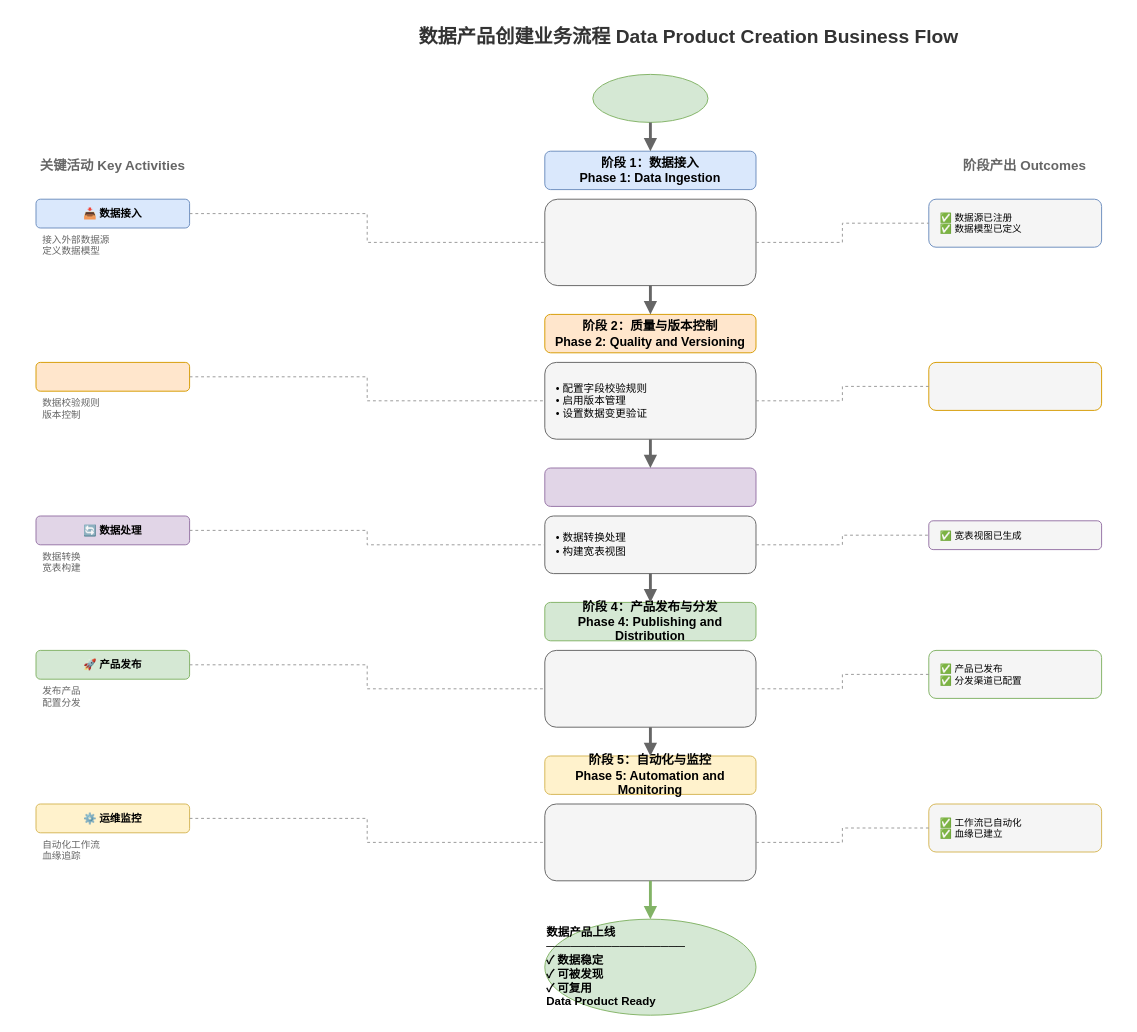
Some shapes in this 1137 by 1032 pixel diagram are drawn without their labels. The shapes that lost their labels are listed below. From the top down, each one's centre as x and y in pixels, then its label:
point 650,97: 开始 Start
point 650,242: • 注册外部数据源 • 定义数据结构 Schema • 创建数据表/实体 • 建立关联关系
point 112,376: 🔐 质量保障
point 1015,385: ✅ 校验规则已配置 ✅ 版本管理已启用
point 650,486: 阶段 3：数据处理与转换 Phase 3: Data Processing
point 650,688: • 发布数据产品 • 配置数据分发渠道 • 设置访问权限
point 650,842: • 配置工作流自动化 • 建立数据血缘追踪 • 影响分析监控
